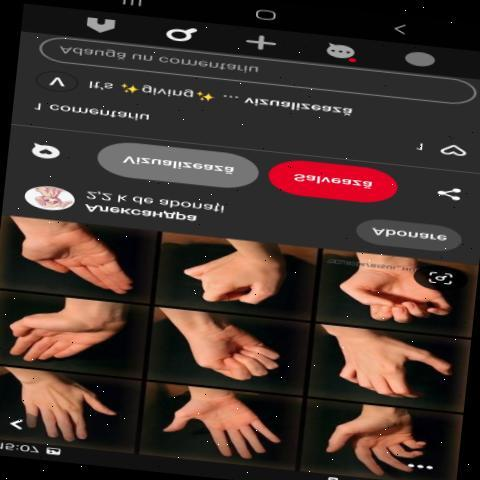Hands: (0, 299, 145, 370), (161, 390, 299, 462), (12, 223, 141, 300), (324, 330, 458, 404), (315, 408, 452, 478), (9, 377, 128, 452)
